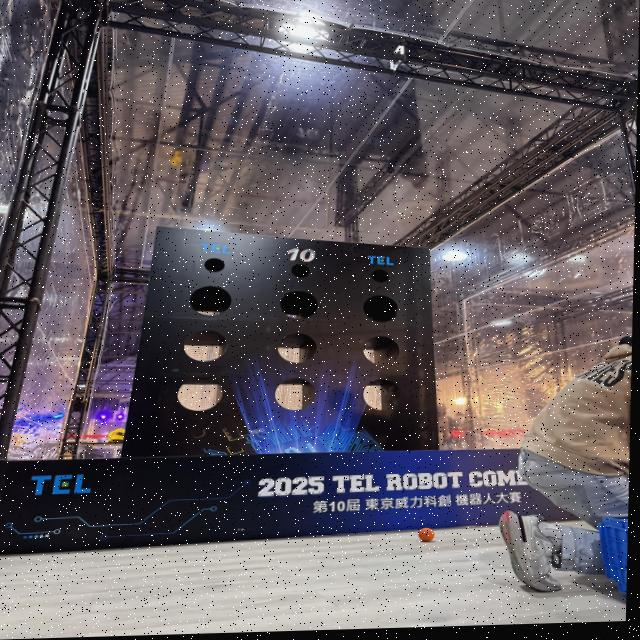hole: (178, 376, 223, 411), (183, 330, 228, 362), (274, 377, 316, 411), (190, 285, 232, 317), (362, 379, 403, 411), (277, 332, 318, 363), (279, 289, 319, 319), (362, 335, 400, 365), (363, 294, 398, 322), (204, 257, 225, 273), (291, 264, 311, 278), (371, 269, 390, 283)
